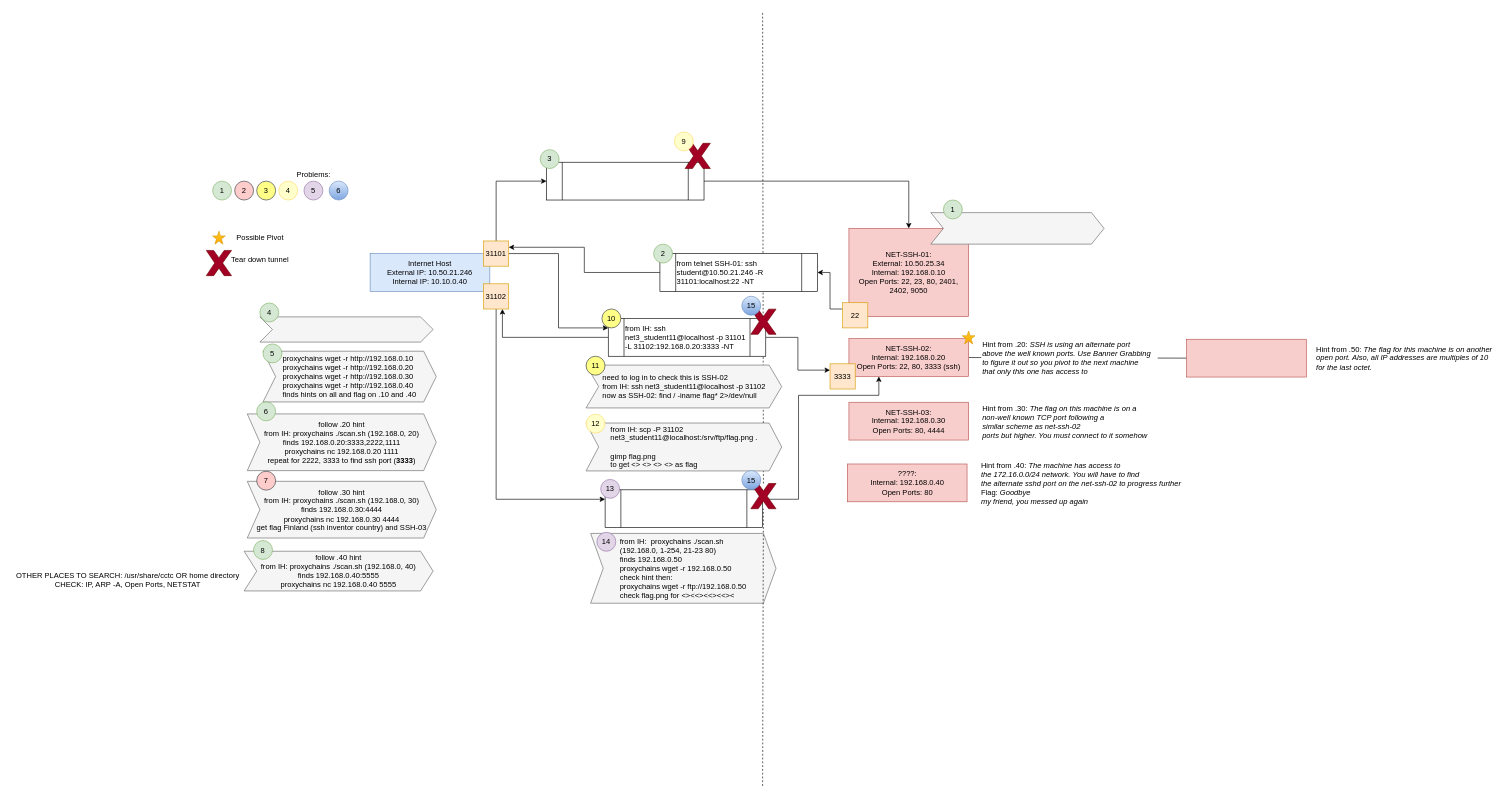
The diagram is 1508 pixels wide and 798 high, and some of its shapes have lost their labels. Each missing label, with the centre of its shape:
"from IH: proxychains ./scan.sh (192.168.0) find 192.168.0.10,20,30,40" goes at (x=346, y=329).
"from IH: ssh ssh net3_student11@localhost -p 31102 -D 9050 -NT" goes at (x=683, y=508).
"NET-SSH-02: Internal: 192.168.0.50 Open Ports: 21, 80" goes at (x=1246, y=358).
"ssh net3_student11@localhost -p 31101 -D 9050 -NT" goes at (x=625, y=181).
"telnet into NET-SSH-01 ifconfig (private IP) netstat -plnt (what's open)" goes at (x=1017, y=228).
